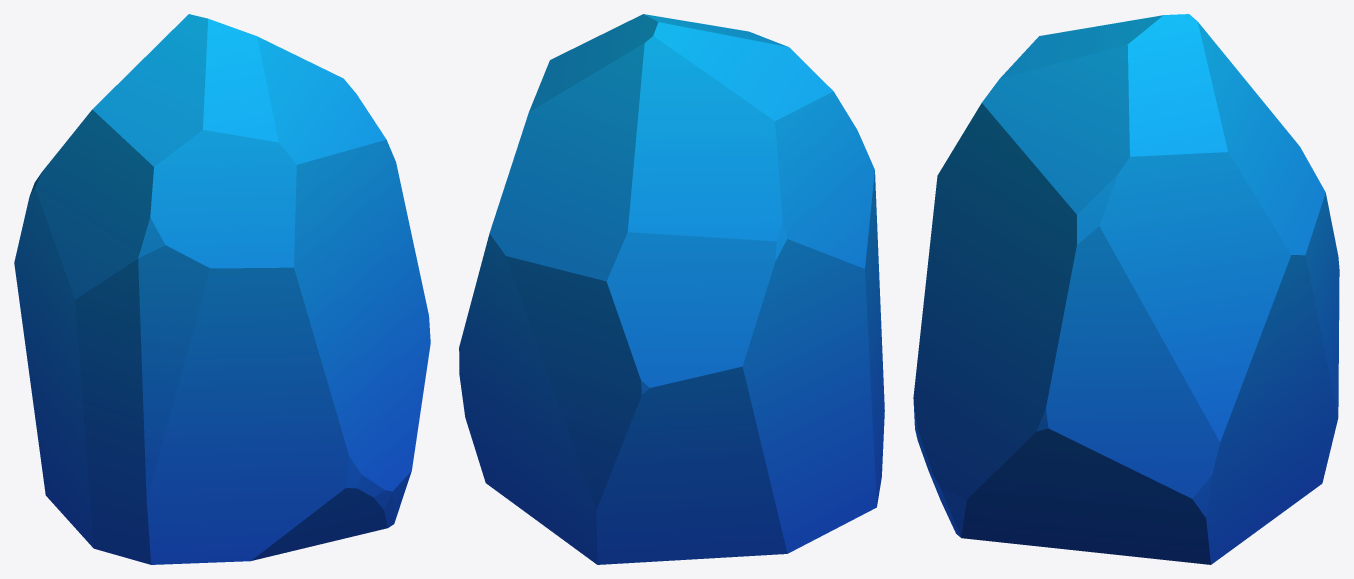
Rendered from crystal_7.fbx.
3 renders of one model, left to right at view 1: azimuth 30°, elevation 25°; view 2: azimuth 150°, elevation 25°; view 3: azimuth 270°, elevation 25°, orthographic. The views are drawn at different scales.
Parts seen in each view (by area): view 1: crystal_7; view 2: crystal_7; view 3: crystal_7.
Boxes of the visible parts, x1,y1,x2,y2 form: crystal_7: [14, 14, 430, 564]; crystal_7: [459, 14, 884, 564]; crystal_7: [913, 14, 1339, 564].
Size of the model in its own units: 6.21 by 8.1 by 6.55.
1 material, 1 textured.
